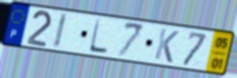2: (26, 10, 52, 49)
7: (117, 20, 147, 60), (181, 31, 210, 67)
I: (51, 11, 70, 50)
K: (153, 27, 181, 65)
L: (87, 18, 110, 57)
